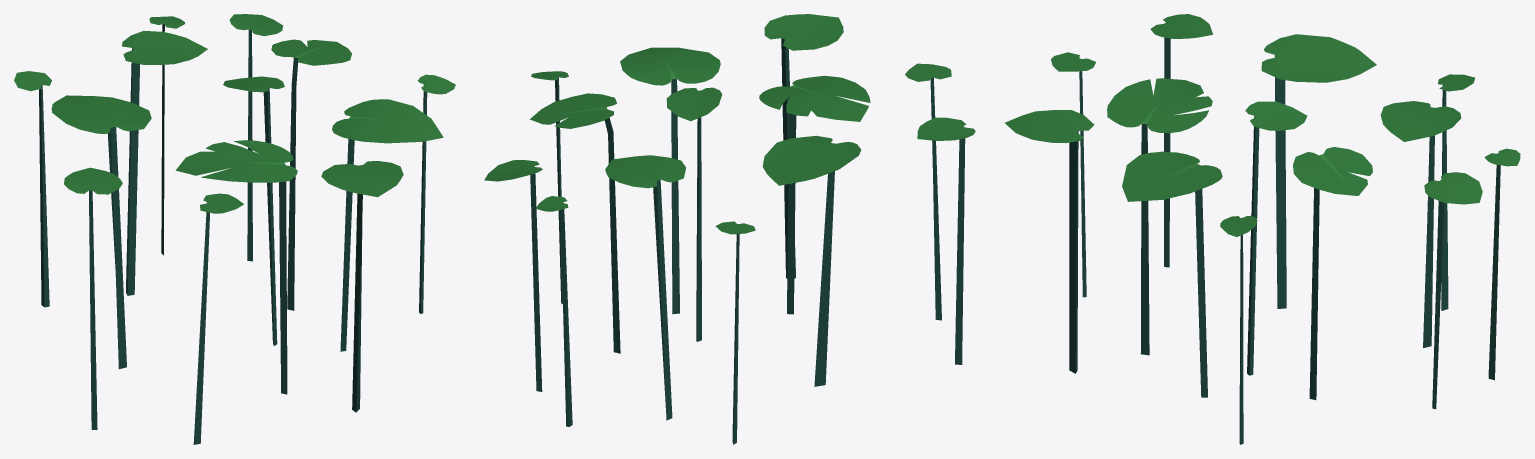
The model's file is plant_monstera_A_carpet.fbx.
3 renders of one model, left to right at view 1: azimuth 30°, elevation 25°; view 2: azimuth 150°, elevation 25°; view 3: azimuth 270°, elevation 25°, orthographic.
Parts seen in each view (by area): view 1: plant_monstera_A_carpet_leaf_A, plant_monstera_A_carpet_leaf_C, plant_monstera_A_carpet_leaf_D, plant_monstera_A_carpet_leaf_E, plant_monstera_A_carpet_leaf_F, plant_monstera_A_carpet_leaf_B, plant_monstera_A_carpet_leaf_I, plant_monstera_A_carpet_leaf_L, plant_monstera_A_carpet_leaf_M, plant_monstera_A_carpet_leaf_G, plant_monstera_A_carpet_leaf_H, plant_monstera_A_carpet_leaf_J (+1 smaller); view 2: plant_monstera_A_carpet_leaf_D, plant_monstera_A_carpet_leaf_A, plant_monstera_A_carpet_leaf_C, plant_monstera_A_carpet_leaf_E, plant_monstera_A_carpet_leaf_B, plant_monstera_A_carpet_leaf_F, plant_monstera_A_carpet_leaf_I, plant_monstera_A_carpet_leaf_G, plant_monstera_A_carpet_leaf_H, plant_monstera_A_carpet_leaf_L, plant_monstera_A_carpet_leaf_K, plant_monstera_A_carpet_leaf_M (+1 smaller); view 3: plant_monstera_A_carpet_leaf_D, plant_monstera_A_carpet_leaf_A, plant_monstera_A_carpet_leaf_C, plant_monstera_A_carpet_leaf_B, plant_monstera_A_carpet_leaf_F, plant_monstera_A_carpet_leaf_E, plant_monstera_A_carpet_leaf_G, plant_monstera_A_carpet_leaf_H, plant_monstera_A_carpet_leaf_I, plant_monstera_A_carpet_leaf_K, plant_monstera_A_carpet_leaf_L, plant_monstera_A_carpet_leaf_M (+1 smaller).
Part boxes in pixels (bbox=[...]): plant_monstera_A_carpet_leaf_A: bbox=[175, 140, 297, 394]; plant_monstera_A_carpet_leaf_C: bbox=[332, 99, 443, 351]; plant_monstera_A_carpet_leaf_D: bbox=[51, 95, 151, 369]; plant_monstera_A_carpet_leaf_E: bbox=[122, 31, 207, 295]; plant_monstera_A_carpet_leaf_F: bbox=[321, 161, 403, 412]; plant_monstera_A_carpet_leaf_B: bbox=[271, 39, 351, 310]; plant_monstera_A_carpet_leaf_I: bbox=[64, 167, 122, 429]; plant_monstera_A_carpet_leaf_L: bbox=[193, 193, 243, 444]; plant_monstera_A_carpet_leaf_M: bbox=[14, 71, 51, 307]; plant_monstera_A_carpet_leaf_G: bbox=[223, 76, 284, 345]; plant_monstera_A_carpet_leaf_H: bbox=[229, 14, 283, 261]; plant_monstera_A_carpet_leaf_J: bbox=[417, 74, 455, 313]; plant_monstera_A_carpet_leaf_D: bbox=[762, 135, 861, 386]; plant_monstera_A_carpet_leaf_A: bbox=[759, 75, 870, 314]; plant_monstera_A_carpet_leaf_C: bbox=[620, 47, 720, 314]; plant_monstera_A_carpet_leaf_E: bbox=[605, 155, 685, 420]; plant_monstera_A_carpet_leaf_B: bbox=[530, 93, 620, 353]; plant_monstera_A_carpet_leaf_F: bbox=[764, 14, 843, 278]; plant_monstera_A_carpet_leaf_I: bbox=[917, 117, 975, 364]; plant_monstera_A_carpet_leaf_G: bbox=[666, 87, 722, 341]; plant_monstera_A_carpet_leaf_H: bbox=[484, 160, 542, 391]; plant_monstera_A_carpet_leaf_L: bbox=[905, 63, 951, 320]; plant_monstera_A_carpet_leaf_K: bbox=[535, 196, 572, 426]; plant_monstera_A_carpet_leaf_M: bbox=[715, 221, 755, 444]; plant_monstera_A_carpet_leaf_D: bbox=[1261, 34, 1376, 308]; plant_monstera_A_carpet_leaf_A: bbox=[1107, 78, 1212, 355]; plant_monstera_A_carpet_leaf_C: bbox=[1122, 151, 1222, 397]; plant_monstera_A_carpet_leaf_B: bbox=[1293, 147, 1372, 399]; plant_monstera_A_carpet_leaf_F: bbox=[1004, 110, 1094, 373]; plant_monstera_A_carpet_leaf_E: bbox=[1380, 101, 1461, 348]; plant_monstera_A_carpet_leaf_G: bbox=[1245, 101, 1307, 375]; plant_monstera_A_carpet_leaf_H: bbox=[1424, 172, 1482, 409]; plant_monstera_A_carpet_leaf_I: bbox=[1150, 14, 1212, 267]; plant_monstera_A_carpet_leaf_K: bbox=[1484, 148, 1520, 380]; plant_monstera_A_carpet_leaf_L: bbox=[1051, 52, 1095, 297]; plant_monstera_A_carpet_leaf_M: bbox=[1438, 74, 1474, 310].
Size of the model in its own units: 118 by 69.89 by 126.
